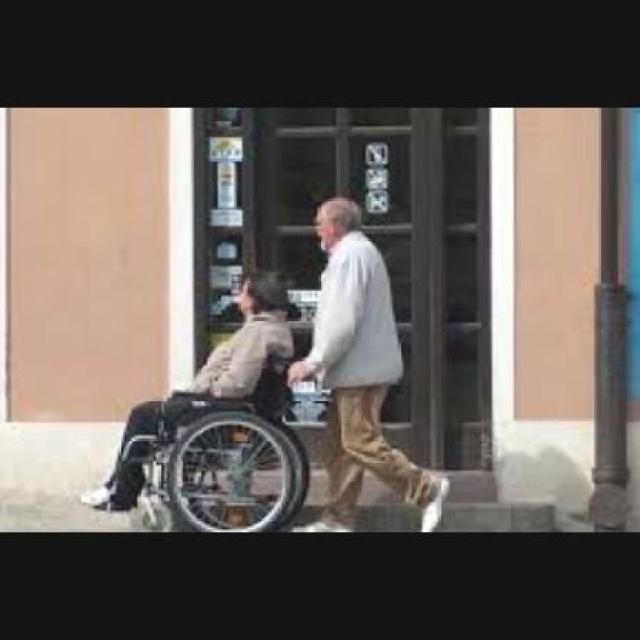wheelchairs: (72, 340, 312, 534)
